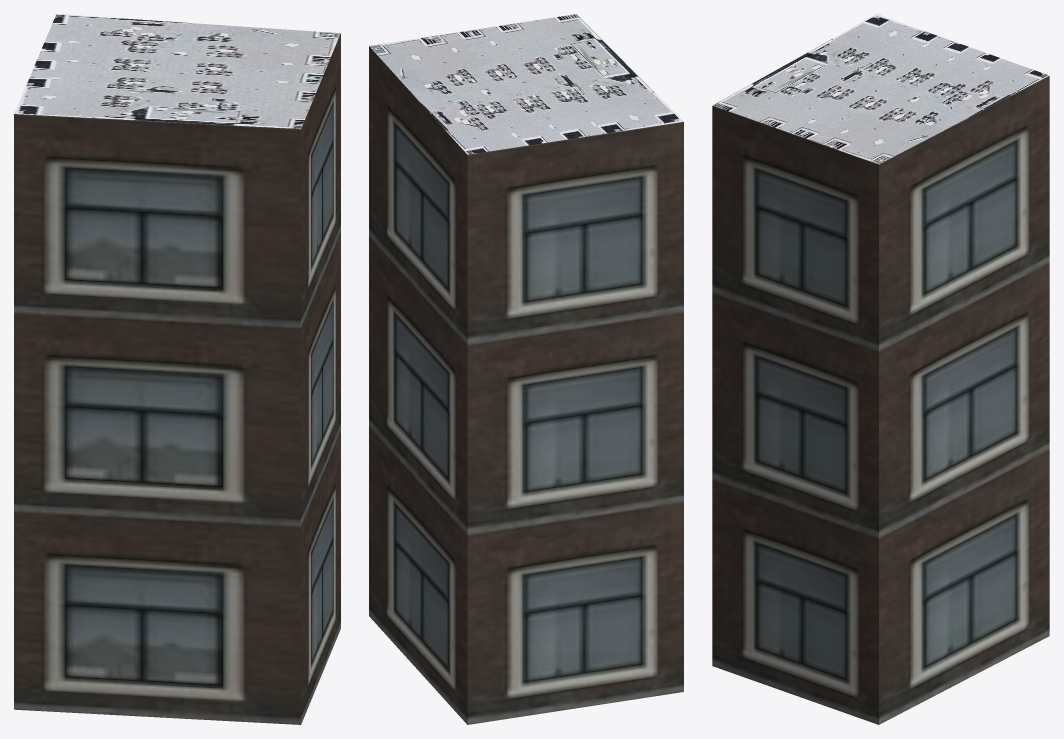
The model's file is ResTex__4506.fbx.
3 renders of one model, left to right at view 1: azimuth 30°, elevation 25°; view 2: azimuth 150°, elevation 25°; view 3: azimuth 270°, elevation 25°, orthographic. The views are drawn at different scales.
Visible parts, largest first — view 1: CityEngineMaterial_16_m, CityEngineMaterial_15_m; view 2: CityEngineMaterial_16_m, CityEngineMaterial_15_m; view 3: CityEngineMaterial_16_m, CityEngineMaterial_15_m.
Part boxes in pixels (box(x1,y1,x2,y2)): CityEngineMaterial_16_m: box(14, 33, 340, 724); CityEngineMaterial_15_m: box(14, 14, 340, 129); CityEngineMaterial_16_m: box(369, 46, 683, 724); CityEngineMaterial_15_m: box(369, 14, 683, 154); CityEngineMaterial_16_m: box(712, 76, 1049, 724); CityEngineMaterial_15_m: box(713, 14, 1049, 164).
Size of the model in its own units: 5.18 by 9 by 4.91.
2 materials, 2 textured.
